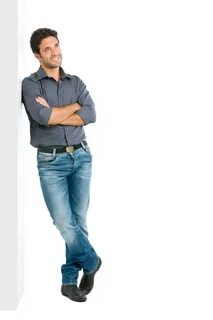awake: (21, 27, 103, 303)
